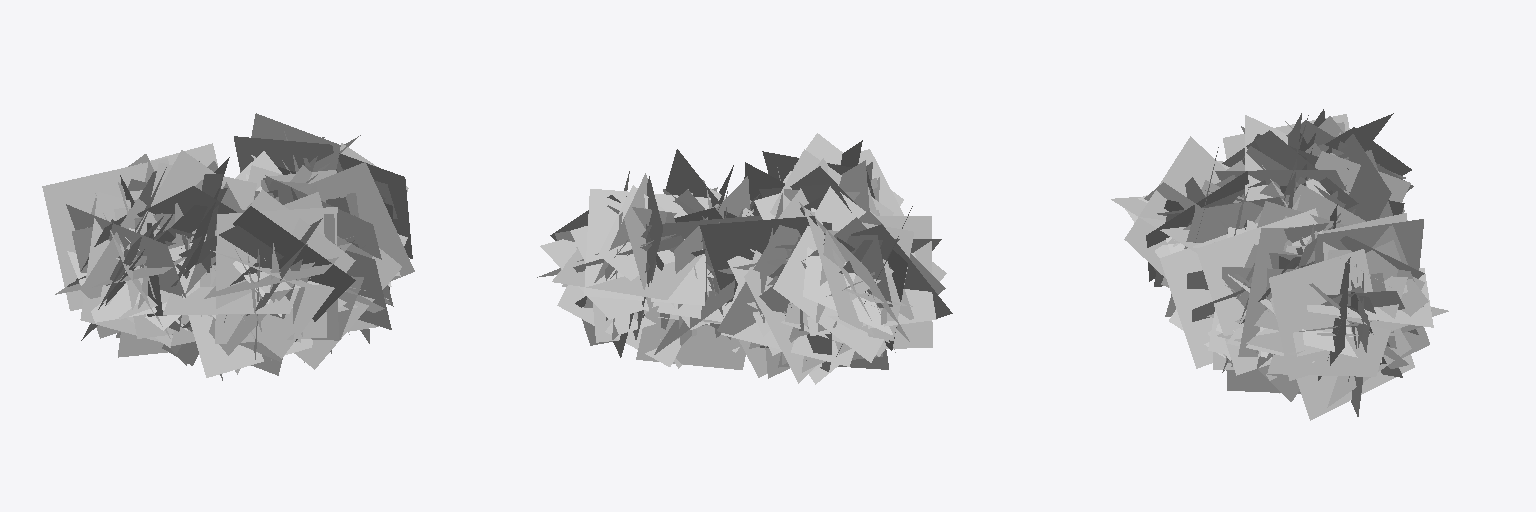
File: leaves.obj
3 renders of one model, left to right at view 1: azimuth 30°, elevation 25°; view 2: azimuth 150°, elevation 25°; view 3: azimuth 270°, elevation 25°, orthographic.
Visible parts, largest first — view 1: Leaves; view 2: Leaves; view 3: Leaves.
Boxes of the visible parts, <box> form: Leaves: <box>42,113,414,380</box>; Leaves: <box>537,133,952,384</box>; Leaves: <box>1111,109,1448,420</box>.
Size of the model in its own units: 2.51 by 1.47 by 1.99.